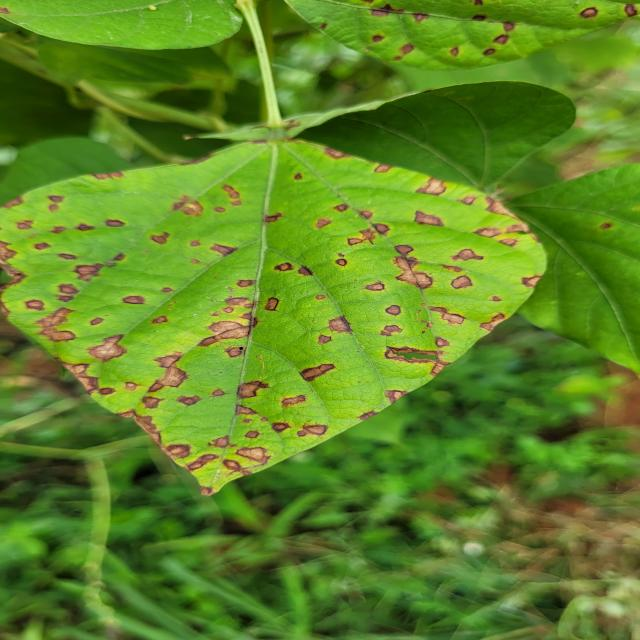Dolicos bean_cercospora leaf spot: (0, 142, 556, 498)
